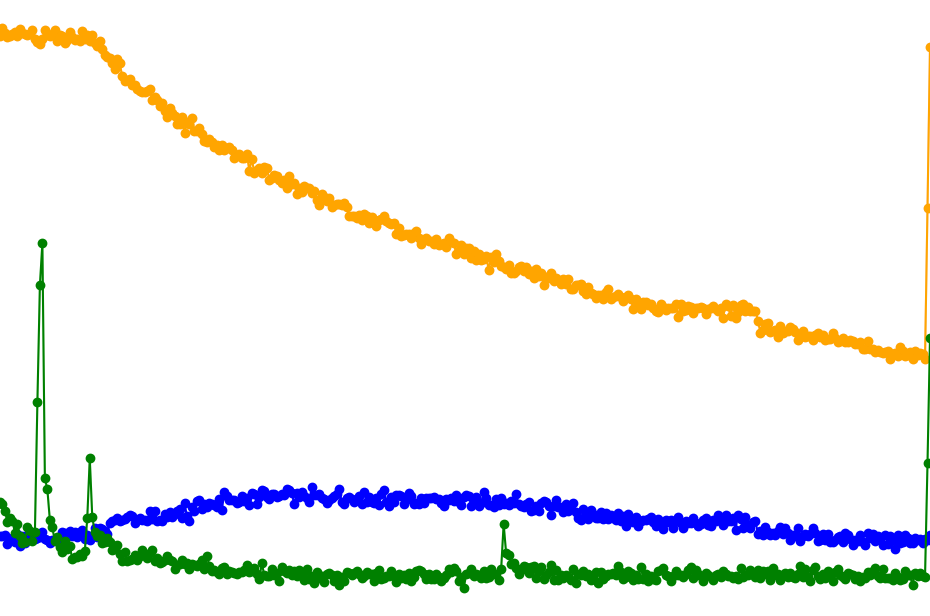CO2 Problem: (478, 0, 930, 616), (239, 0, 478, 616), (59, 0, 239, 616)
Condensation (CO2): (59, 0, 478, 616), (478, 0, 598, 616)
Condensation (O2): (478, 0, 598, 616)
High O2: (59, 0, 478, 616), (478, 0, 777, 616), (239, 0, 478, 616), (59, 0, 239, 616)
Low CO2: (478, 0, 930, 616), (478, 0, 777, 616), (239, 0, 478, 616), (59, 0, 239, 616)
Low O2: (478, 0, 930, 616), (478, 0, 598, 616)
Normal: (0, 0, 930, 616), (478, 0, 930, 616), (239, 0, 478, 616), (59, 0, 239, 616), (239, 0, 418, 616), (59, 0, 179, 616), (0, 0, 59, 616)
O2 Problem: (478, 0, 930, 616), (239, 0, 478, 616)
